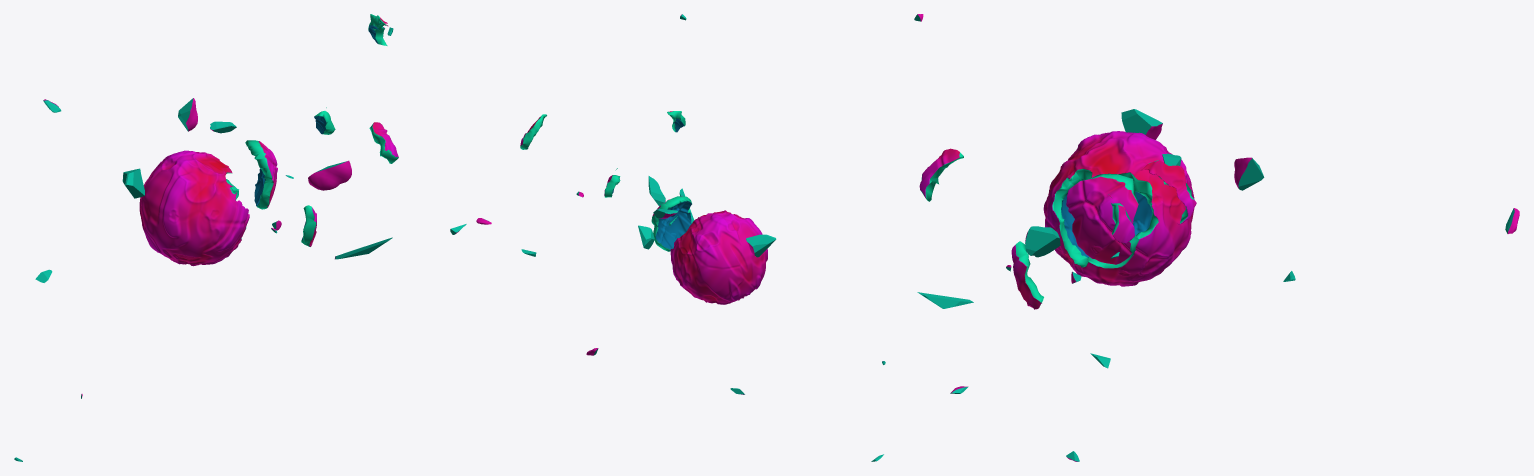
The model's file is planet.glb.
3 renders of one model, left to right at view 1: azimuth 30°, elevation 25°; view 2: azimuth 150°, elevation 25°; view 3: azimuth 270°, elevation 25°, orthographic. The views are drawn at different scales.
Parts seen in each view (by area): view 1: body, slab_00, chunk_14, slab_03, chunk_17; view 2: body, slab_00, chunk_17; view 3: body, slab_00, slab_04, slab_01, chunk_14, slab_03, chunk_17, chunk_20, slab_02.
Part boxes in pixels (x1,y1,x2,y2): body: (139, 150, 249, 266); slab_00: (245, 140, 277, 209); chunk_14: (308, 160, 351, 190); slab_03: (369, 122, 398, 163); chunk_17: (122, 168, 144, 198); body: (670, 210, 767, 304); slab_00: (651, 195, 691, 251); chunk_17: (746, 234, 776, 257); body: (1043, 131, 1194, 286); slab_00: (1066, 173, 1139, 264); slab_04: (1140, 160, 1196, 224); slab_01: (1011, 241, 1043, 309); chunk_14: (1025, 226, 1060, 257); slab_03: (919, 148, 963, 201); chunk_17: (1121, 109, 1162, 139); chunk_20: (1234, 157, 1264, 190); slab_02: (1108, 194, 1134, 243).
Bounding box in the file's own units: 41.36 × 36.95 × 37.02.
